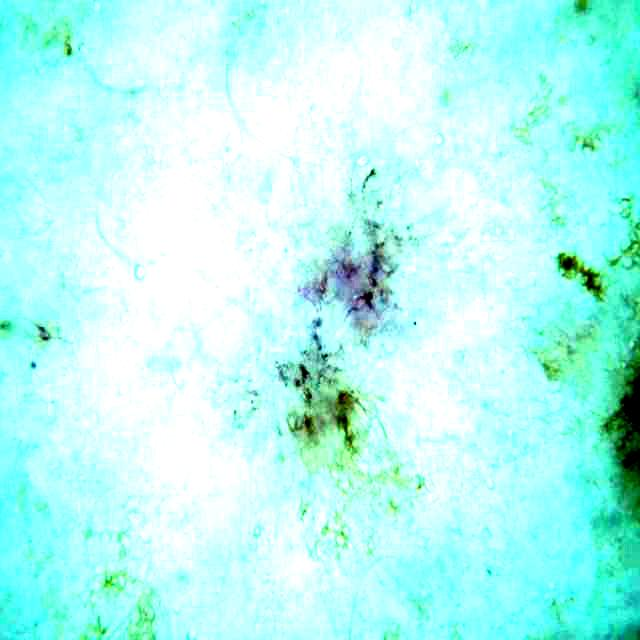BCC: (225, 155, 447, 496)
